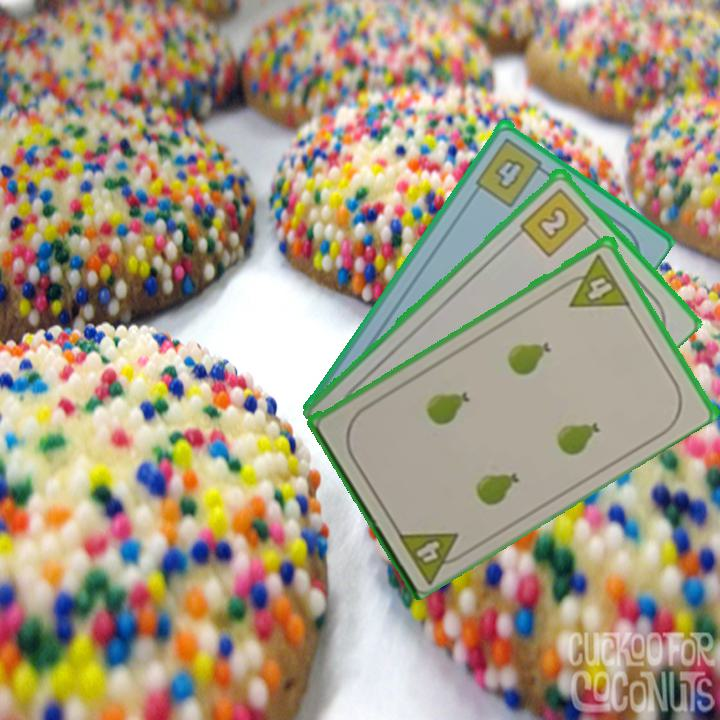2b: (516, 184, 596, 259)
4b: (471, 133, 552, 210)
4p: (393, 526, 472, 585), (557, 249, 632, 311)
